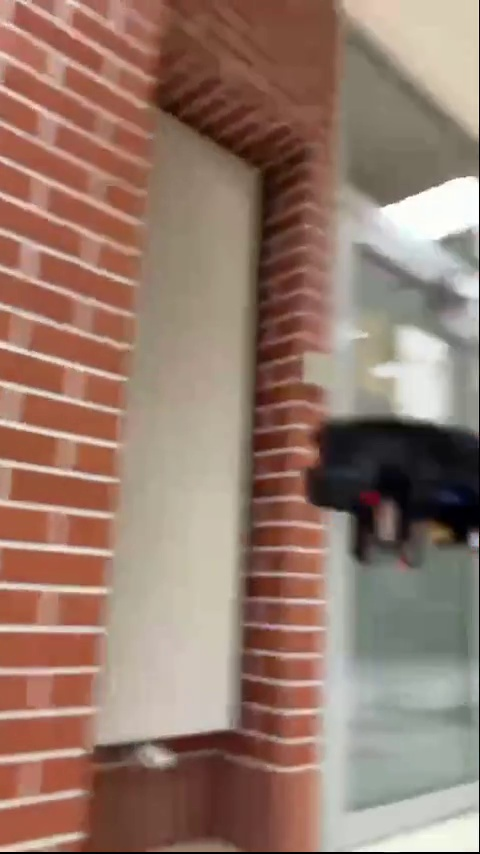drone: (297, 420, 480, 558)
